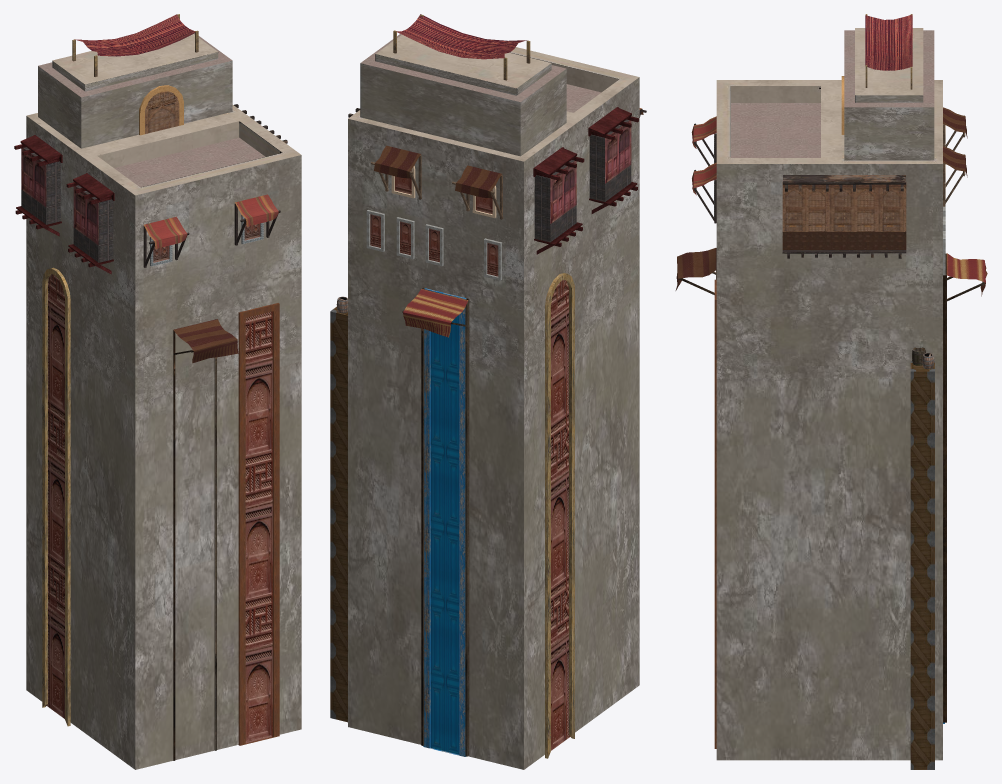
Rendered from medina_cityscape_daar_03_5.gltf.
The picture shows the model from 3 angles, left to right: view 1: azimuth 30°, elevation 25°; view 2: azimuth 150°, elevation 25°; view 3: azimuth 270°, elevation 25°; orthographic projection. The views are drawn at different scales.
Visible parts, largest first — view 1: medina_cityscape_daar_03_5; view 2: medina_cityscape_daar_03_5; view 3: medina_cityscape_daar_03_5.
Part boxes in pixels (x1=…): medina_cityscape_daar_03_5: x1=14, y1=14, x2=301, y2=769; medina_cityscape_daar_03_5: x1=330, y1=14, x2=646, y2=769; medina_cityscape_daar_03_5: x1=675, y1=14, x2=987, y2=769.
Size of the model in its own units: 2.77 by 8.29 by 3.45.
17 materials, 17 textured.
